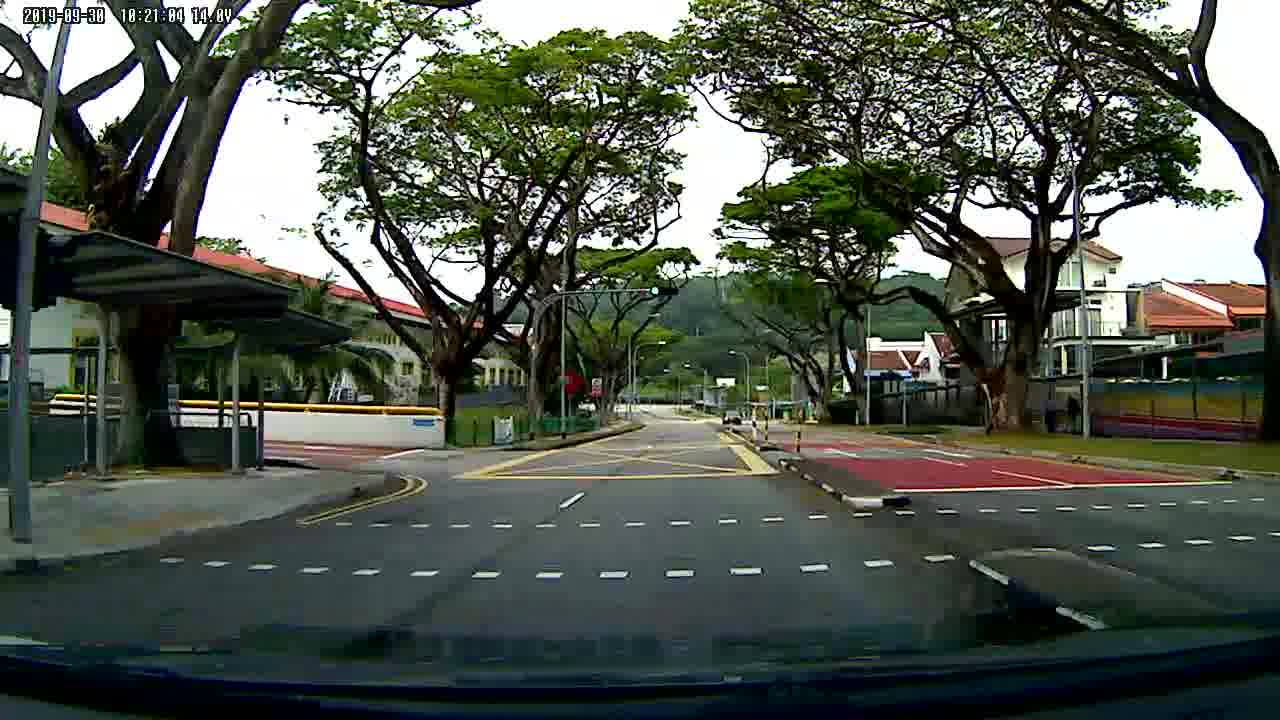car: (718, 408, 744, 426)
